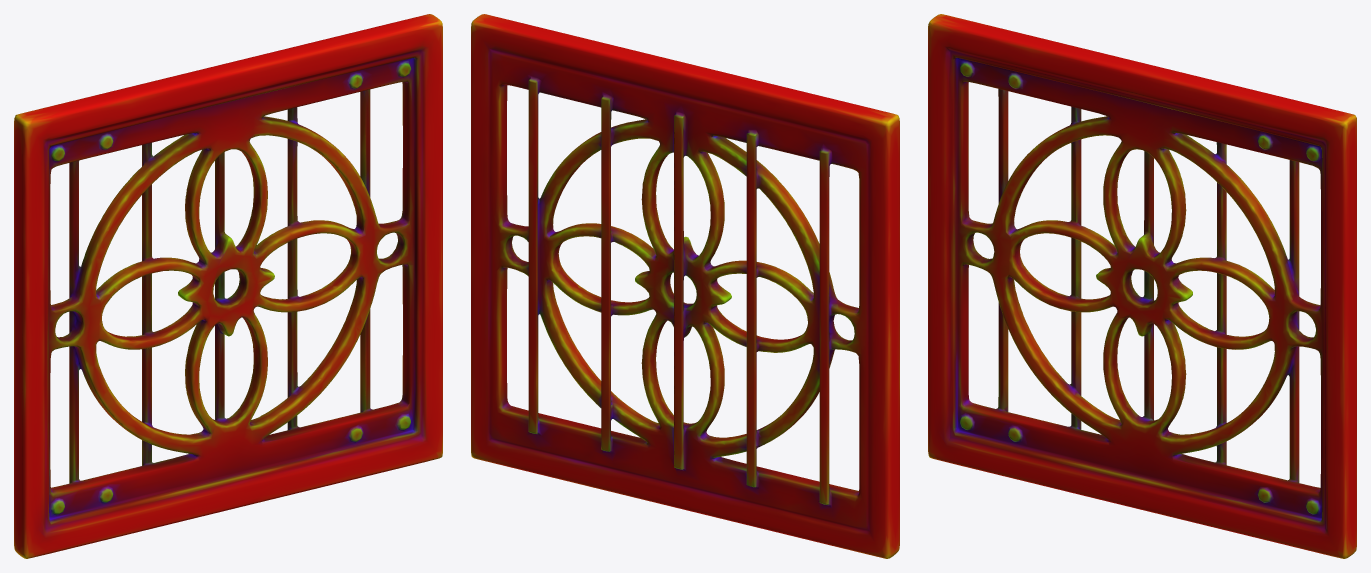
Rendered from SquareWindow.fbx.
3 views of the same model, side by side, from view 1: azimuth 30°, elevation 25°; view 2: azimuth 150°, elevation 25°; view 3: azimuth 330°, elevation 25° (orthographic).
Visible parts, largest first — view 1: transform1; view 2: transform1; view 3: transform1.
Part boxes in pixels (x1=…): transform1: x1=14, y1=14, x2=442, y2=558; transform1: x1=471, y1=14, x2=899, y2=558; transform1: x1=928, y1=14, x2=1356, y2=558.
Bounding box in the file's own units: 261 × 16.19 × 260.
